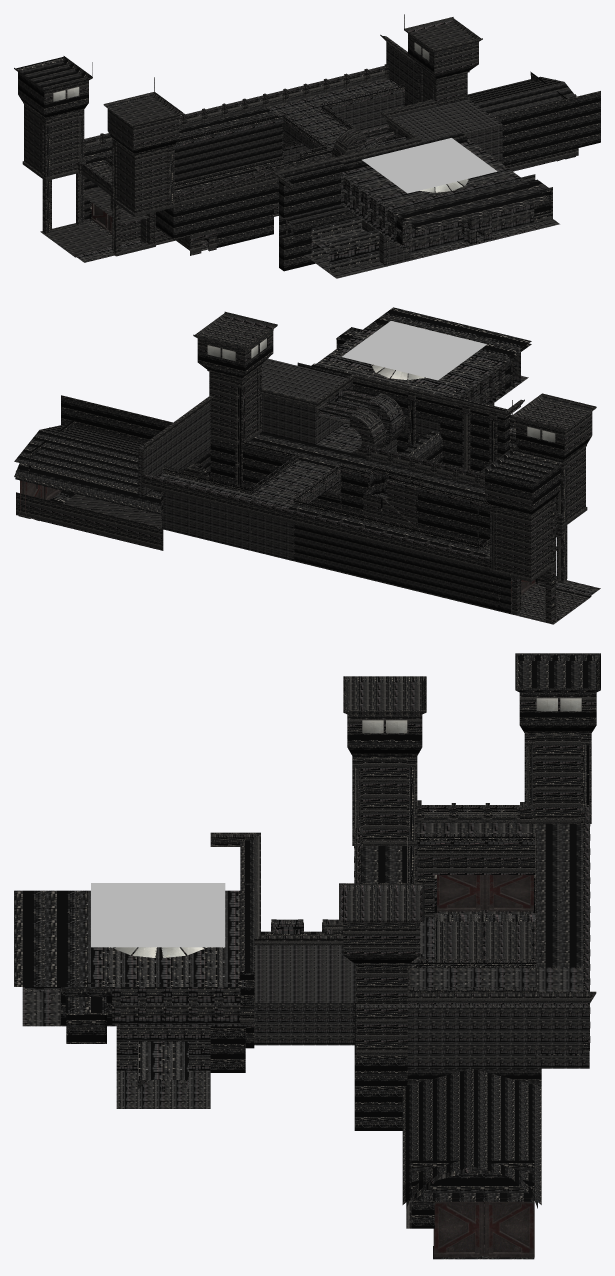
The model's file is gatea_opt.obj.
3 renders of one model, top to bottom at view 1: azimuth 30°, elevation 25°; view 2: azimuth 150°, elevation 25°; view 3: azimuth 270°, elevation 25°, orthographic. The views are drawn at different scales.
Bounding box in the file's own units: 12960 × 4512 × 8794.
